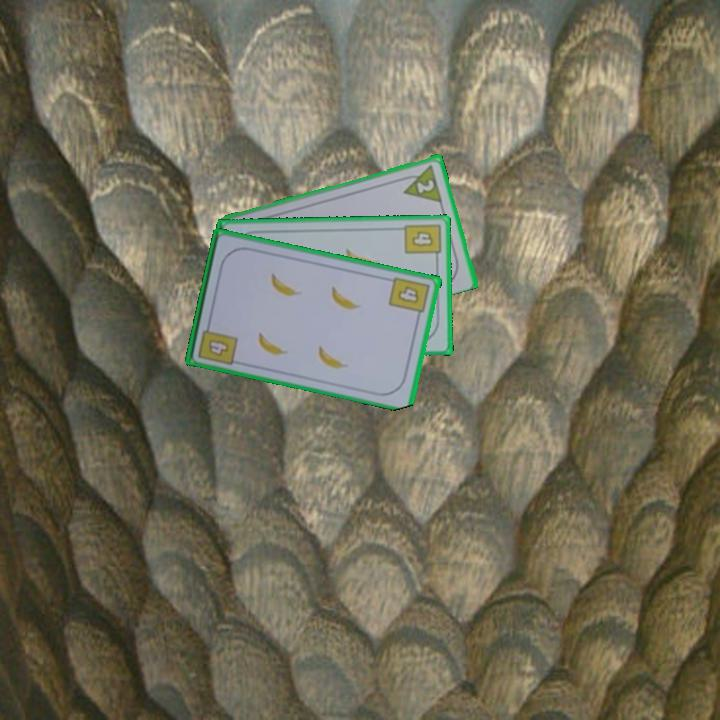2p: (413, 175, 437, 196)
4b: (386, 273, 433, 322), (401, 220, 443, 264), (205, 335, 232, 359)
